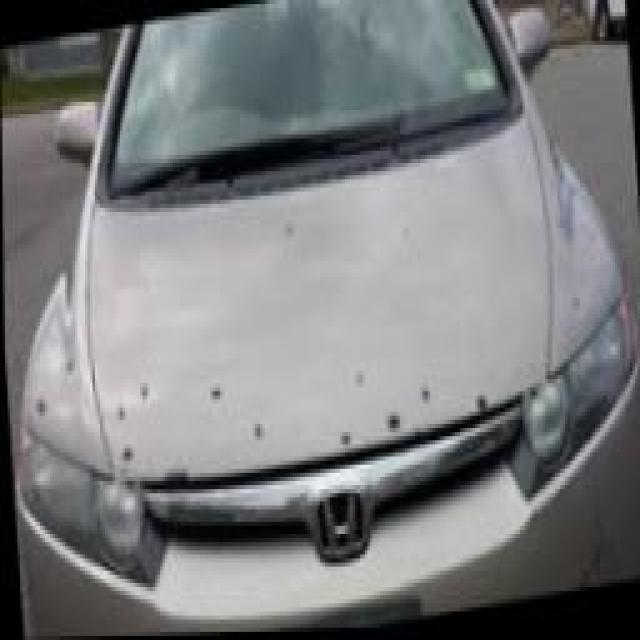Bonnet: (85, 118, 556, 490)
Fender: (12, 212, 100, 455)
